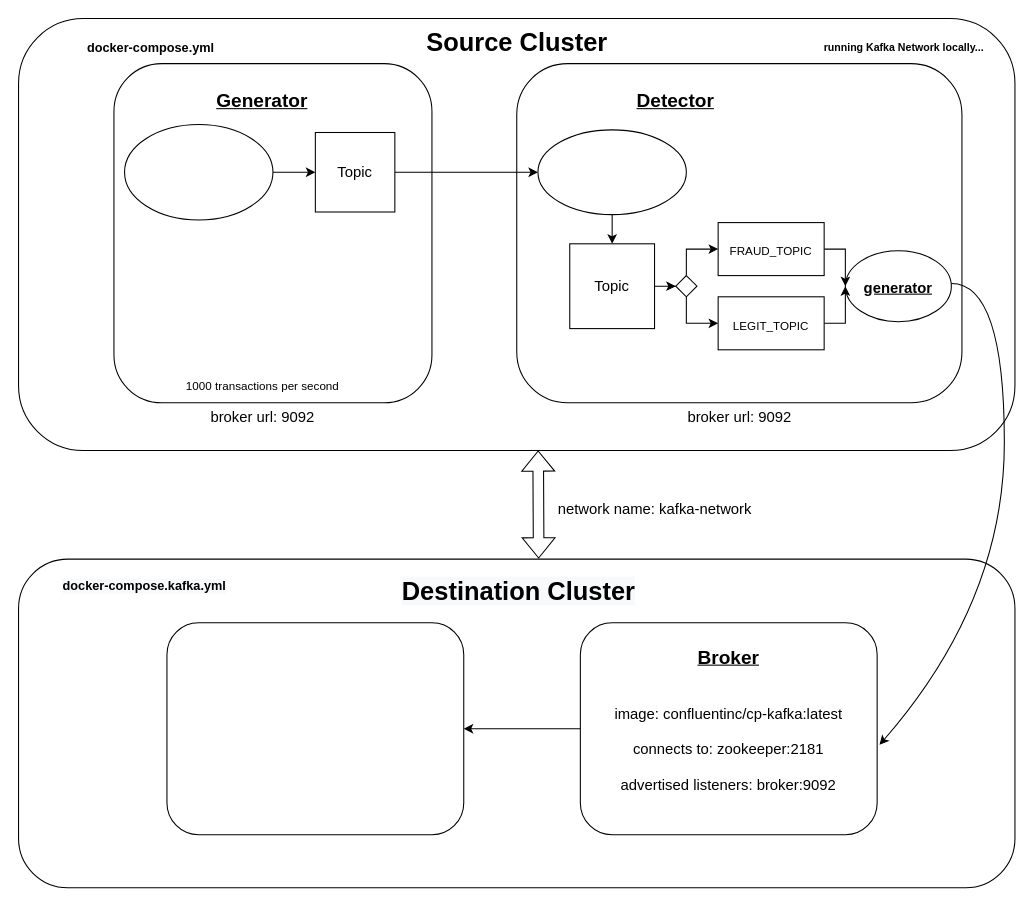
Some shapes in this 1034 by 906 pixel diagram are drawn without their labels. Here are the shapes that lost their labels. From the top down, the centre of each, then its label:
[198,171]: Producer : generates random transactions
[611,172]: Consumer: transaction suspicious?
[315,728]: ZooKeeper image: confluentinc/cp-zookeeper:latest client port: 2181
